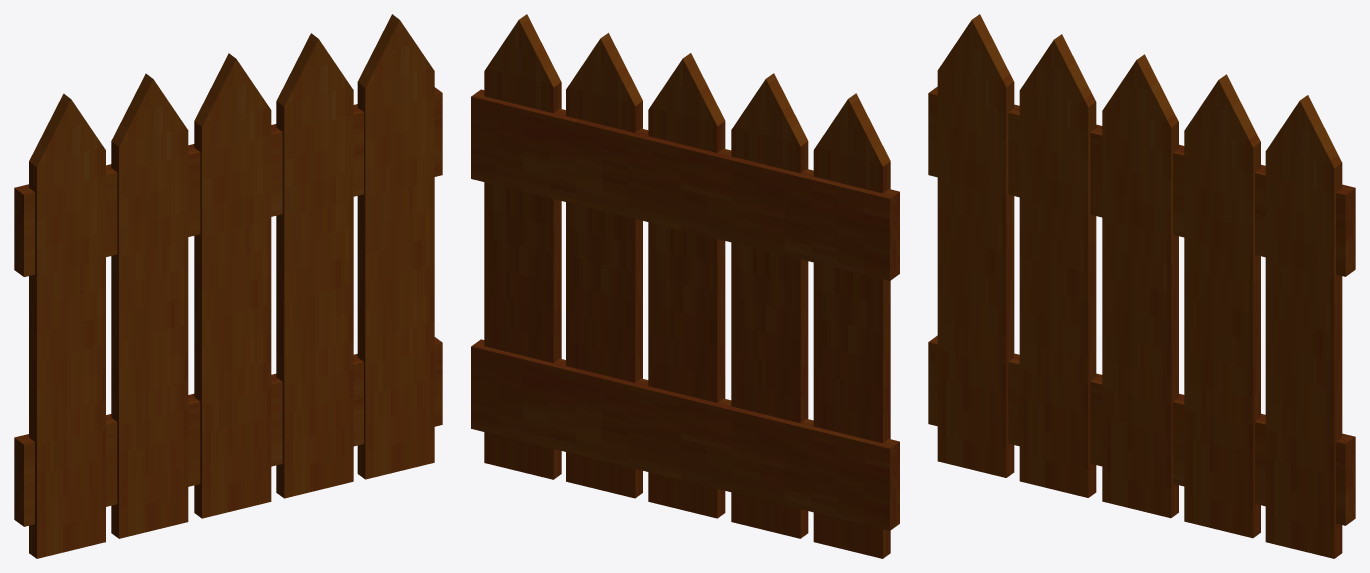
File: Fence2.glb
3 renders of one model, left to right at view 1: azimuth 30°, elevation 25°; view 2: azimuth 150°, elevation 25°; view 3: azimuth 330°, elevation 25°, orthographic.
Visible parts, largest first — view 1: Cube, Cube.001, Cube.002; view 2: Cube, Cube.001, Cube.002; view 3: Cube, Cube.001, Cube.002.
Boxes of the visible parts, x1,y1,x2,y2 form: Cube: [29, 14, 434, 558]; Cube.001: [14, 87, 442, 276]; Cube.002: [14, 337, 442, 526]; Cube: [484, 14, 890, 558]; Cube.001: [471, 89, 899, 280]; Cube.002: [471, 339, 899, 530]; Cube: [937, 14, 1342, 558]; Cube.001: [928, 86, 1355, 276]; Cube.002: [928, 335, 1355, 525].
Size of the model in its own units: 1 by 1.03 by 0.0485.
Materials: 1 (1 with a texture image).
